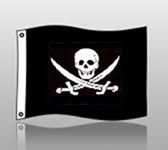Jolly Roger Flag: (13, 22, 157, 126)
